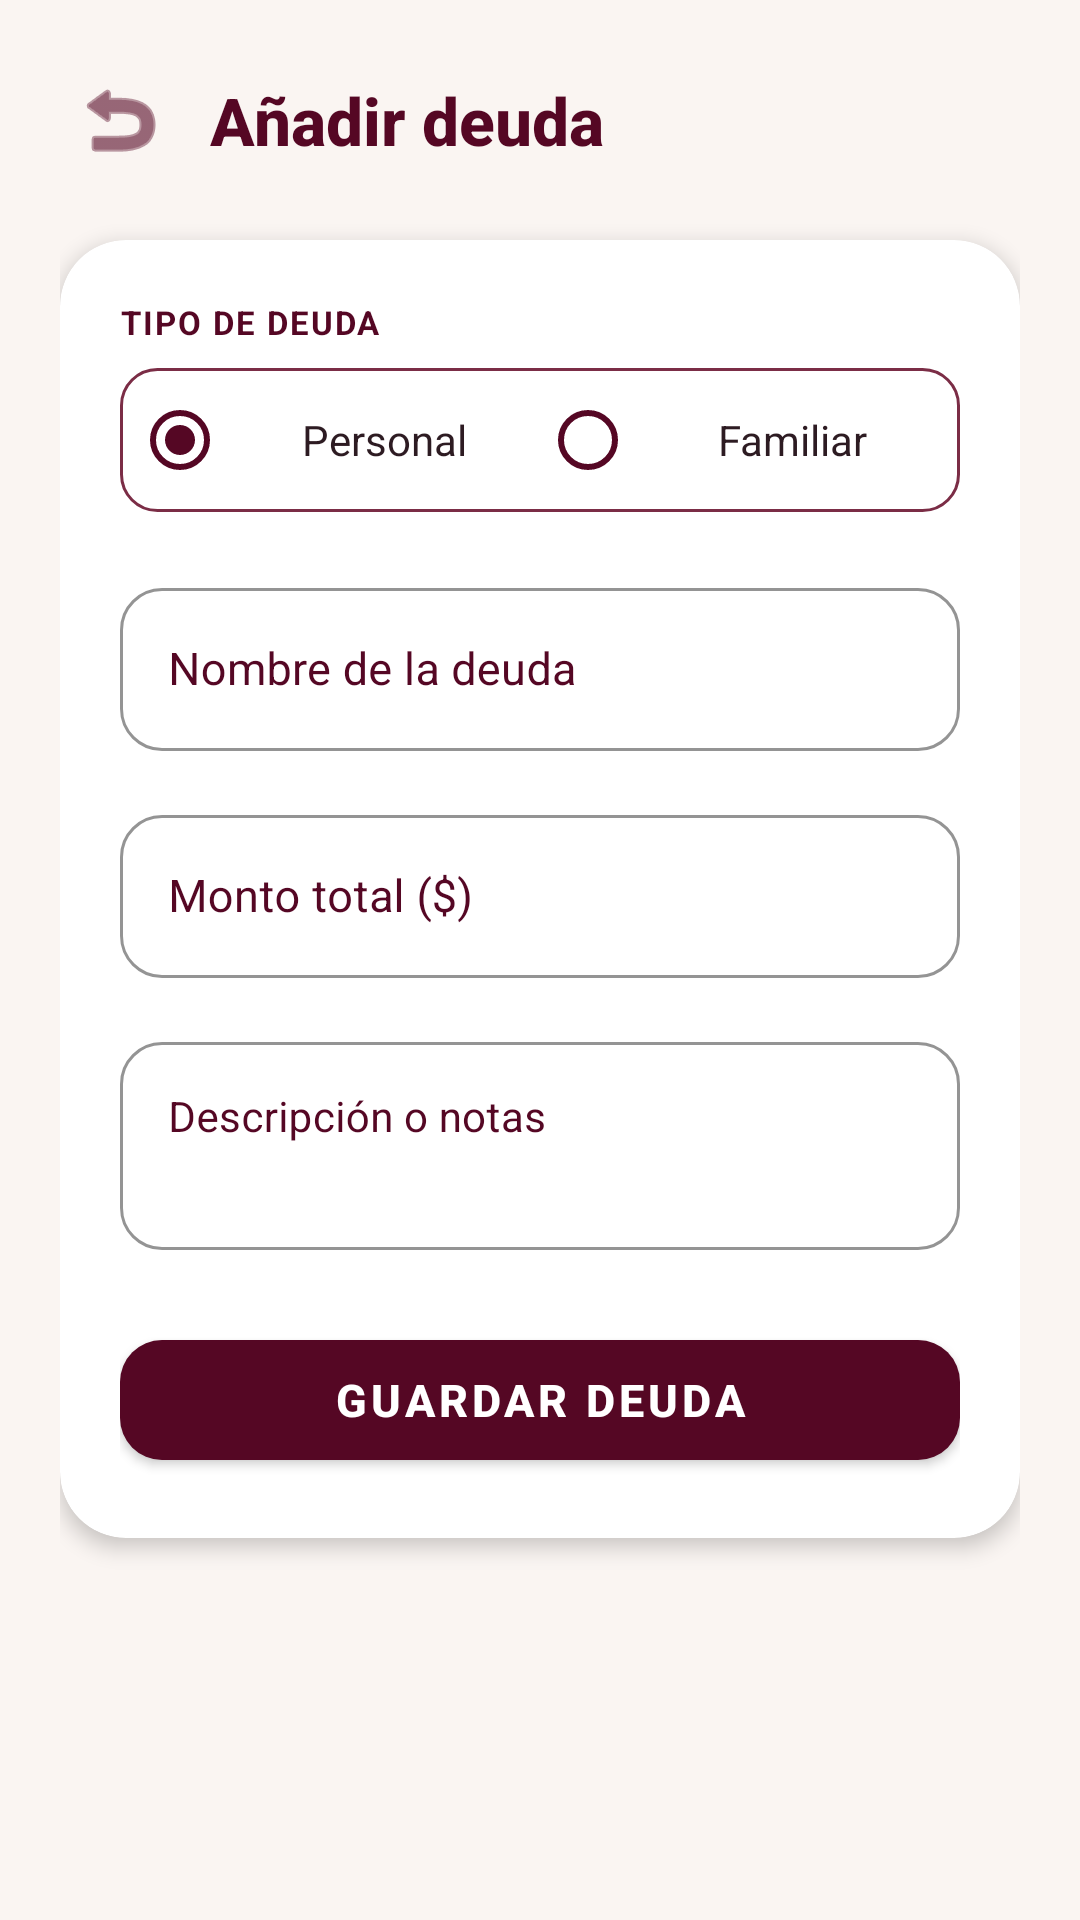

Icons on this 1080x1920 Android screen, each with its box as (x1, y1, x2, y2):
Volver: (87, 89, 156, 152)
